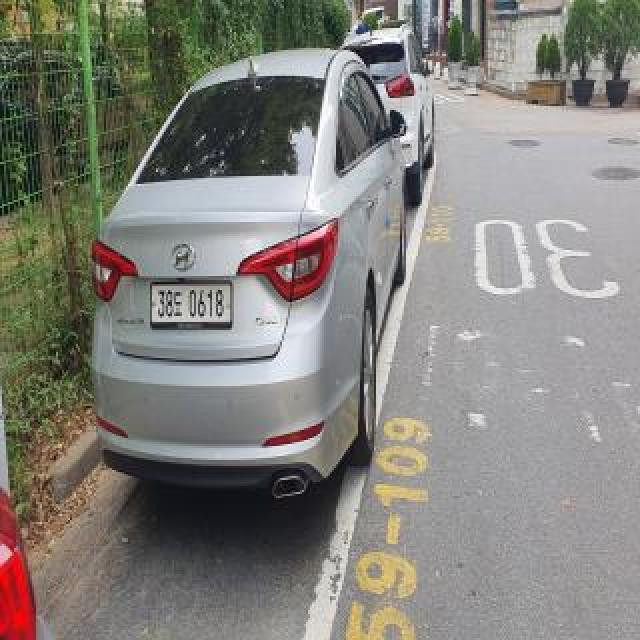car: (76, 41, 413, 501)
illegal_plate: (155, 282, 229, 330)
